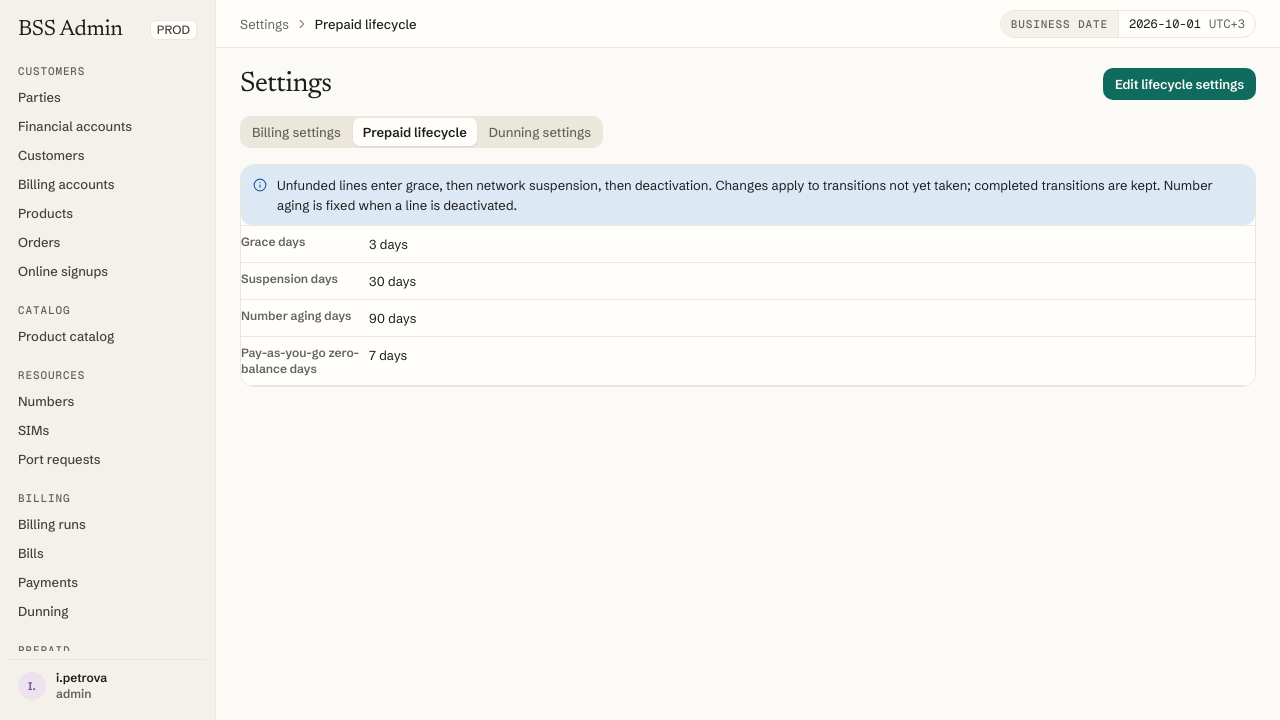
prepaid lifecycle › keeps lifecycle values after 422 and requires refresh for uncertainty
Expected: the heading "Settings" is shown, [240,68,332,100]
Expected: the text "90 days" is shown, [369,300,1255,337]
Click the button "Edit lifecycle settings": click(1180, 84) [1103,68,1256,100]
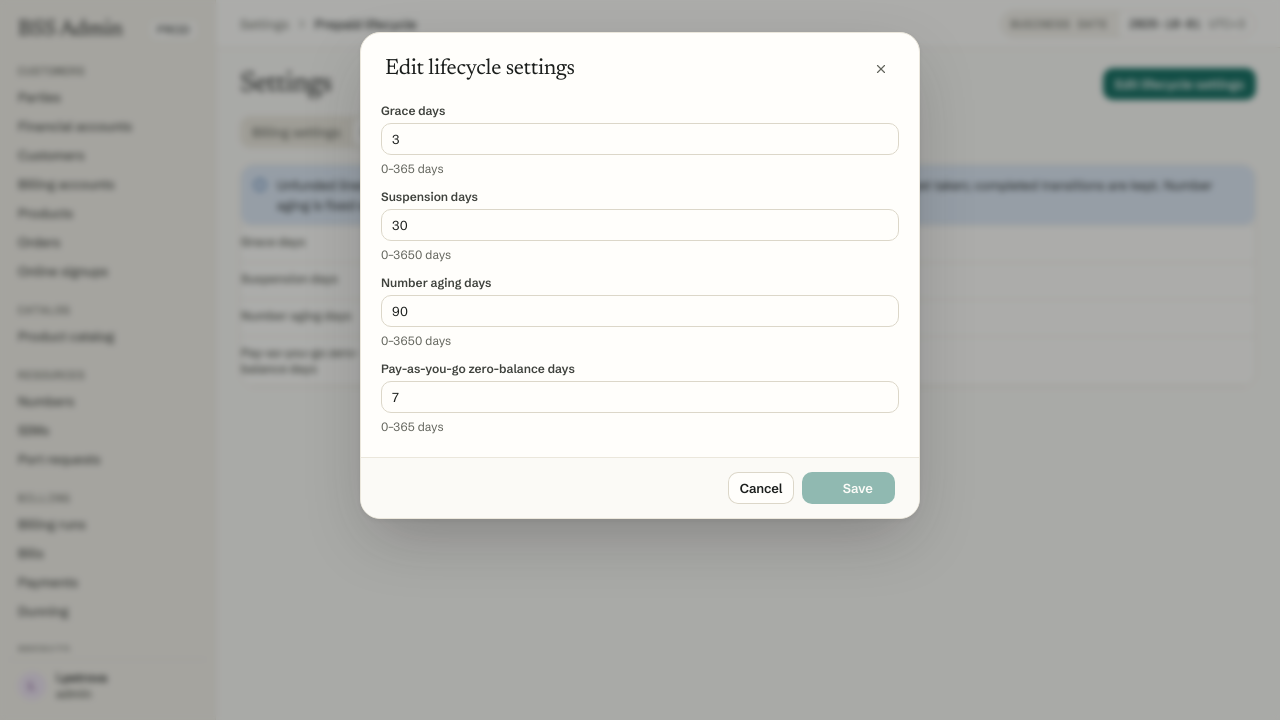
Replace the text in the number field labelled "Grace days" with "4": (640, 139) [381,123,899,155]
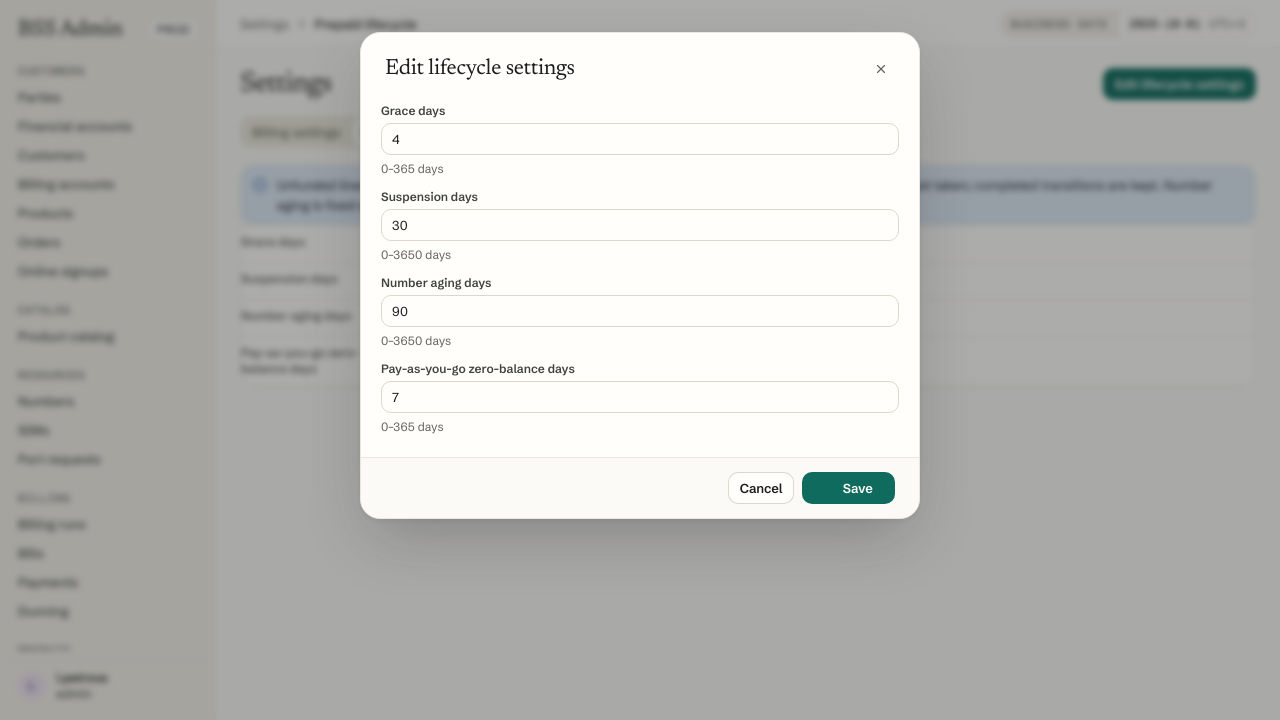
Click the button "Save": click(849, 488) [802,472,895,504]
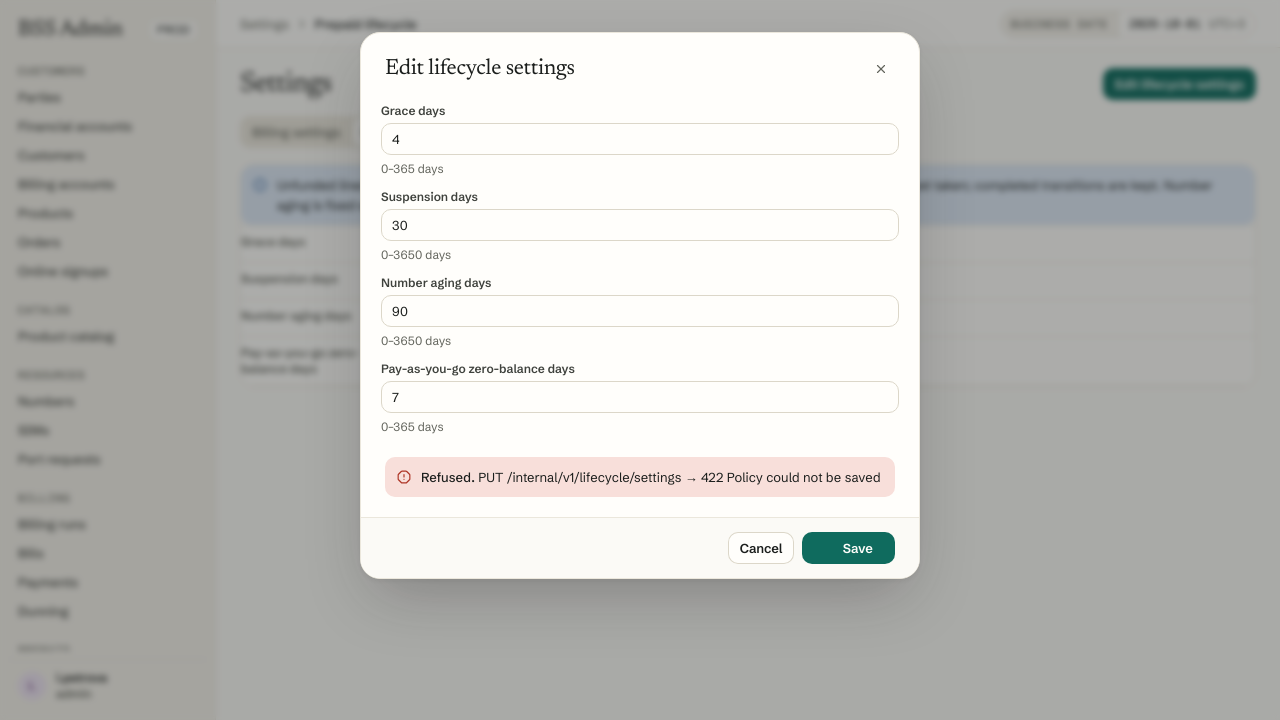
Expected: the text "Refused." is shown, [421,469,475,485]
Expected: the message shows "Policy could not be saved", [478,469,881,485]
